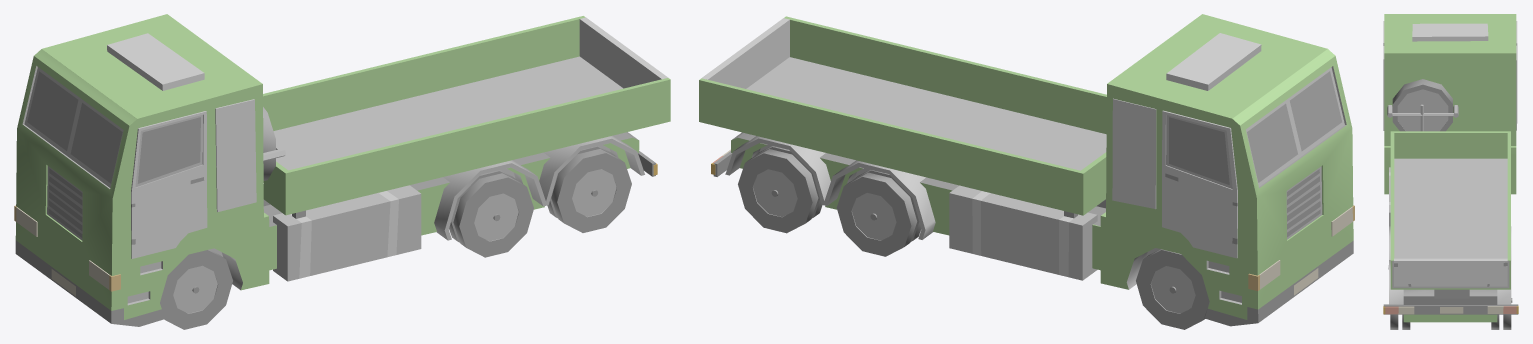
File: kar25.fbx
3 views of the same model, side by side, from view 1: azimuth 30°, elevation 25°; view 2: azimuth 150°, elevation 25°; view 3: azimuth 270°, elevation 25° (orthographic). The views are drawn at different scales.
Parts seen in each view (by area): view 1: Boole_1, Extrude_1_1, Cylinder_4_1, Cylinder_3_1, Cylinder_1_1, Cube_1_1; view 2: Boole_1, Extrude_2_1, Cylinder_5_1, Cylinder_1, Cylinder_2_1, Cube_1_1; view 3: Boole_1, Cube_1_1, Cylinder_1, Cylinder_3_1, Extrude_2_1.
Boxes of the visible parts, x1,y1,x2,y2 form: Boole_1: [14, 14, 670, 326]; Extrude_1_1: [131, 111, 207, 258]; Cylinder_4_1: [449, 170, 533, 257]; Cylinder_3_1: [547, 146, 631, 232]; Cylinder_1_1: [160, 249, 232, 329]; Cube_1_1: [579, 17, 668, 88]; Boole_1: [699, 14, 1354, 326]; Extrude_2_1: [1162, 110, 1237, 258]; Cylinder_5_1: [836, 169, 921, 256]; Cylinder_1: [738, 146, 822, 233]; Cylinder_2_1: [1136, 249, 1209, 329]; Cube_1_1: [701, 18, 789, 88]; Boole_1: [1383, 14, 1518, 322]; Cube_1_1: [1394, 258, 1507, 286]; Cylinder_1: [1491, 298, 1512, 329]; Cylinder_3_1: [1390, 314, 1410, 329]; Extrude_2_1: [1516, 21, 1517, 123].
Bounding box in the file's own units: 832 × 333 × 251.
